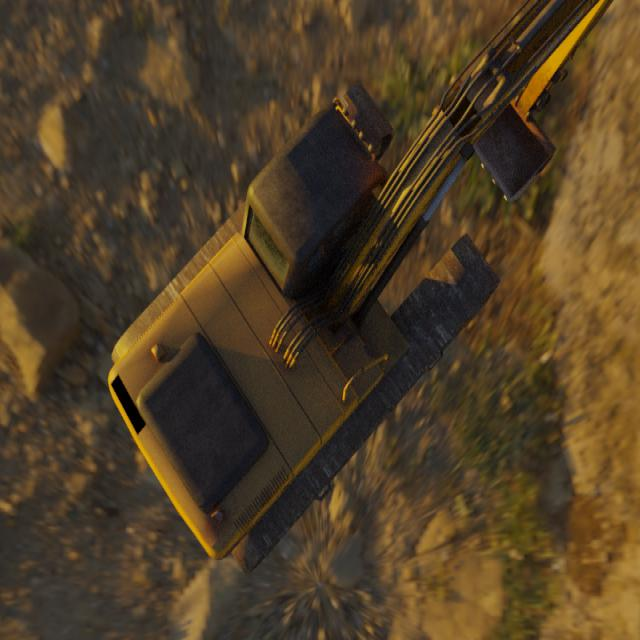excavator: (108, 0, 614, 577)
